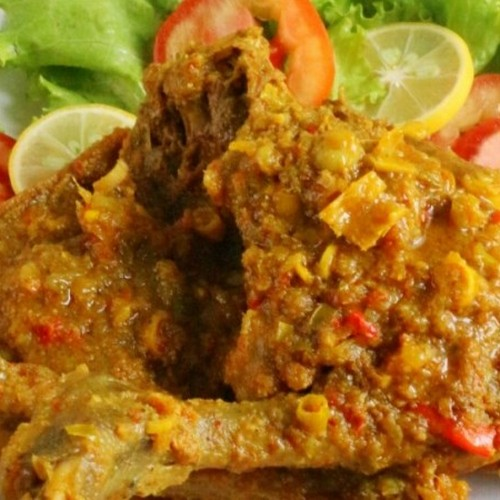ayam betutu: (4, 203, 483, 490)
